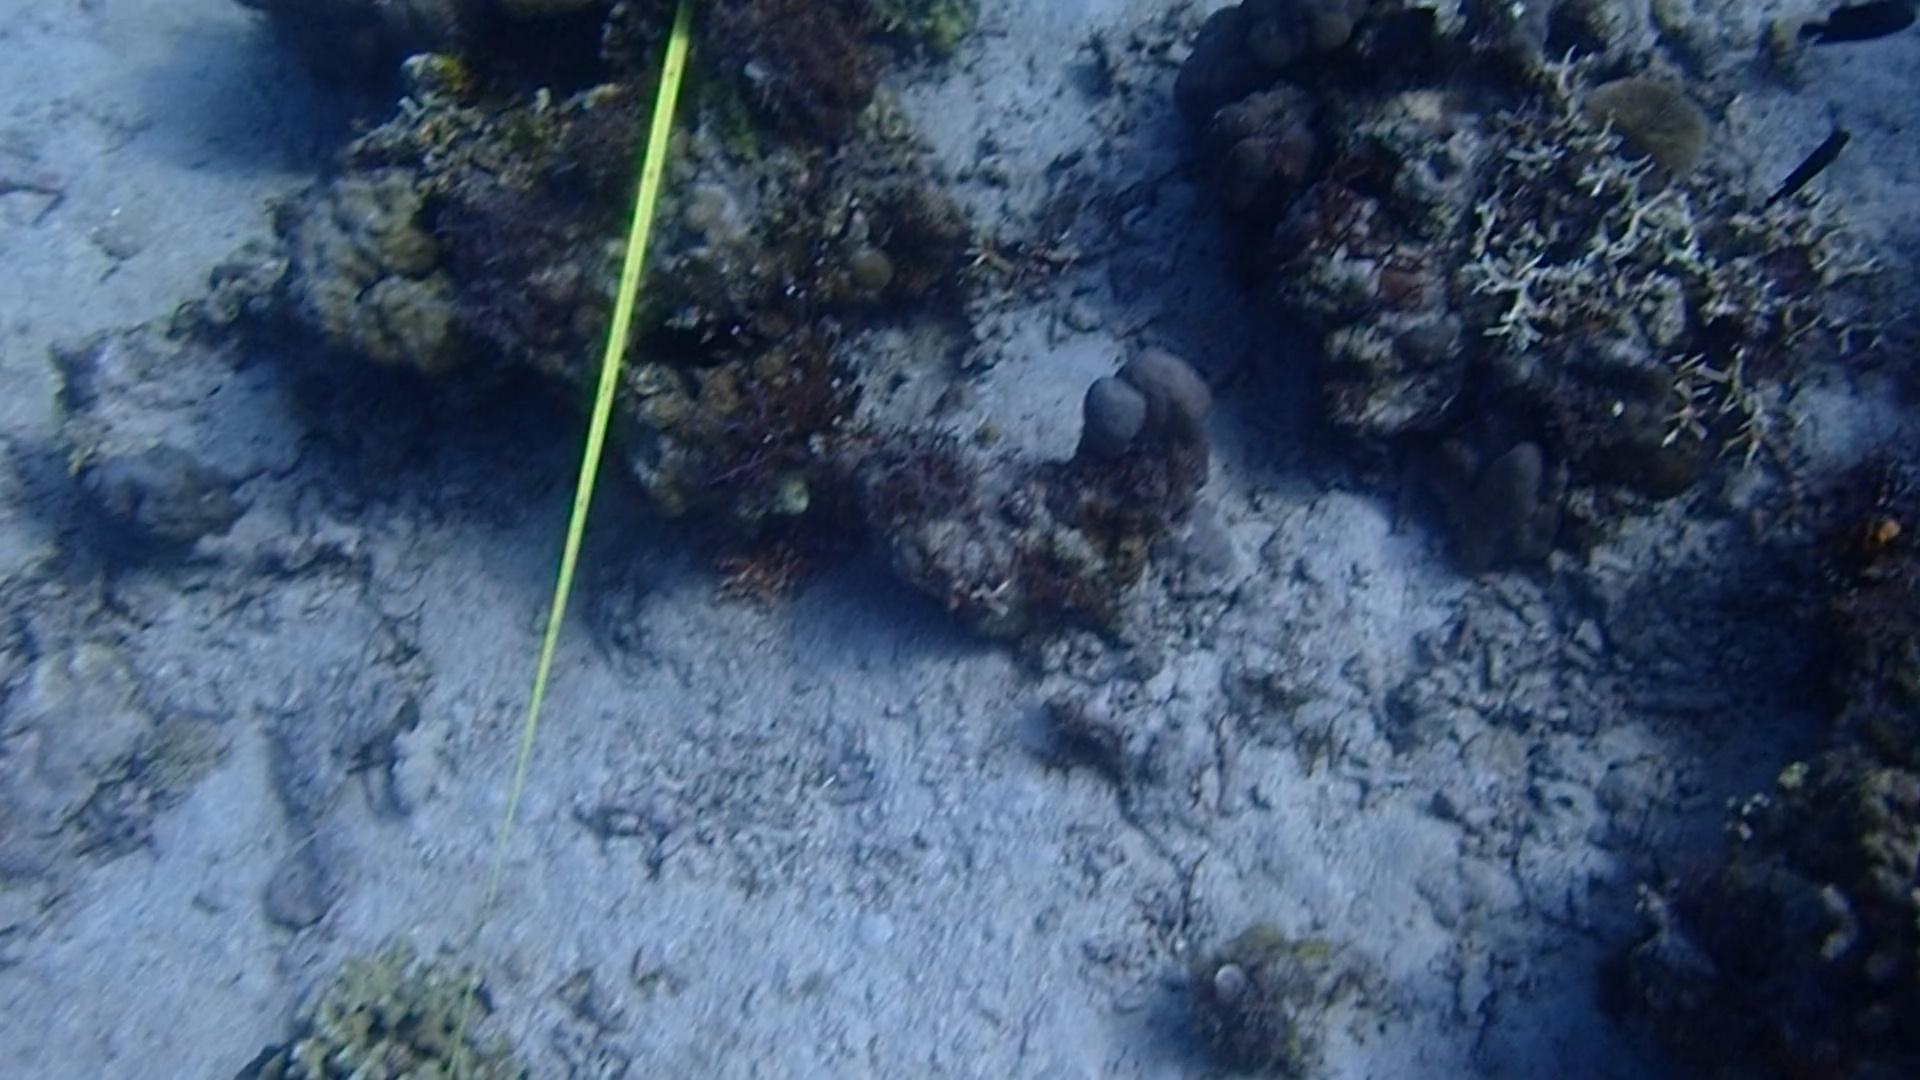Dark Fish: (625, 306, 749, 393), (1755, 123, 1857, 222), (1358, 5, 1440, 98), (1789, 0, 1912, 50)
